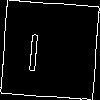I: (25, 24, 42, 72)
